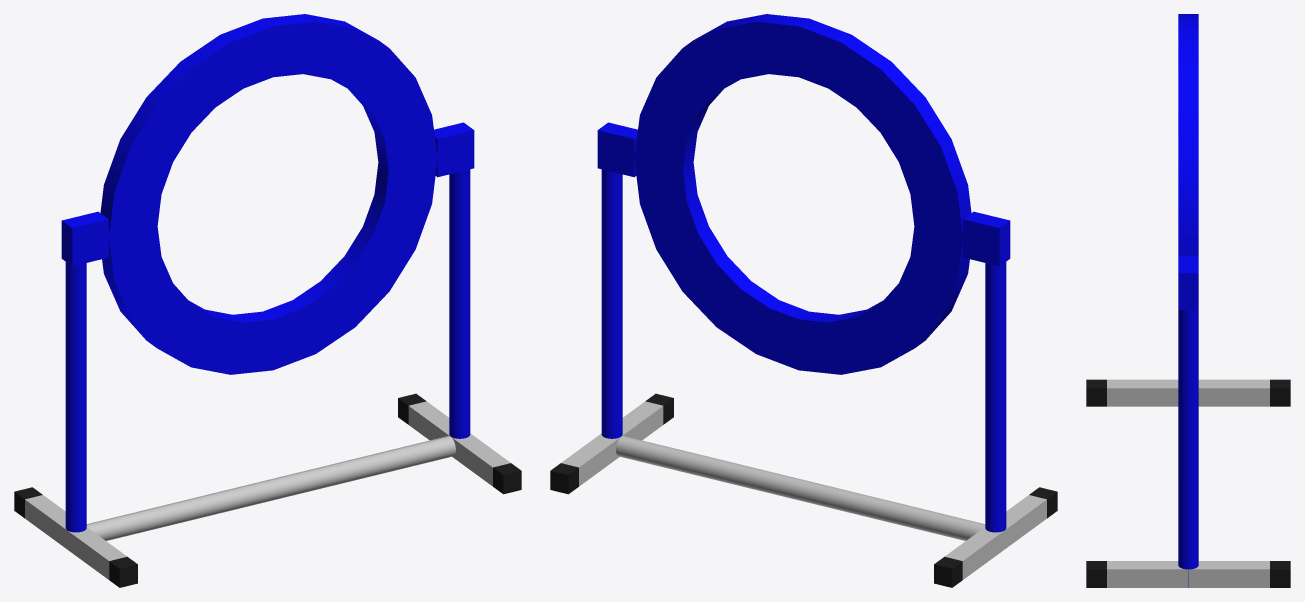
Rendered from Over-3.gltf.
3 views of the same model, side by side, from view 1: azimuth 30°, elevation 25°; view 2: azimuth 150°, elevation 25°; view 3: azimuth 270°, elevation 25° (orthographic). The views are drawn at different scales.
Visible parts, largest first — view 1: ring, root; view 2: ring, root; view 3: root, ring.
Boxes of the visible parts, x1,y1,x2,y2 form: ring: (100, 14, 437, 374); root: (14, 122, 521, 587); ring: (634, 14, 971, 374); root: (550, 122, 1057, 587); root: (1086, 256, 1290, 587); ring: (1178, 14, 1198, 256).
Size of the model in its own units: 1.1 by 1.25 by 0.5.
